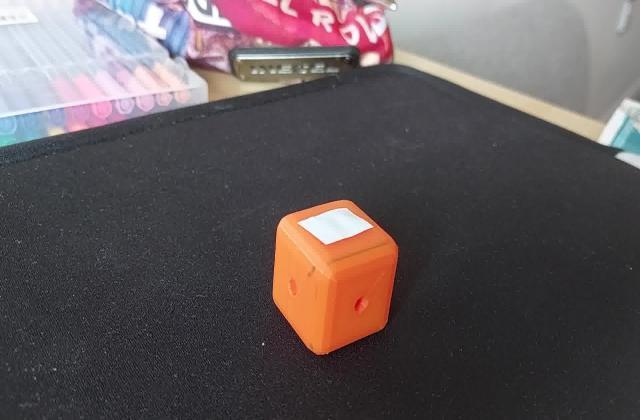cube: (270, 196, 403, 361)
white: (302, 213, 366, 250)
